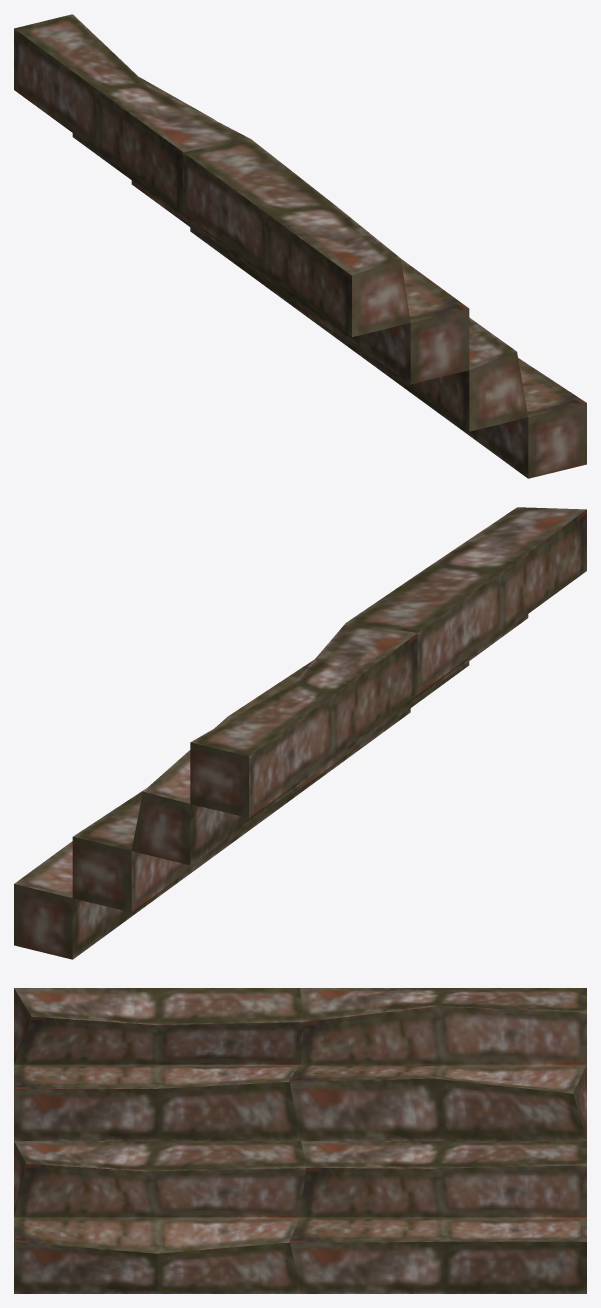
The model's file is brick_stairs_GEO.fbx.
3 views of the same model, one above another, from view 1: azimuth 30°, elevation 25°; view 2: azimuth 150°, elevation 25°; view 3: azimuth 270°, elevation 25° (orthographic). The views are drawn at different scales.
Parts seen in each view (by area): view 1: brick_stairs_GEO; view 2: brick_stairs_GEO; view 3: brick_stairs_GEO.
Part boxes in pixels (x1,y1,x2,y2): brick_stairs_GEO: [14, 14, 586, 478]; brick_stairs_GEO: [14, 507, 586, 959]; brick_stairs_GEO: [14, 988, 586, 1293].
Bounding box in the file's own units: 1.42 × 1.38 × 3.44.
